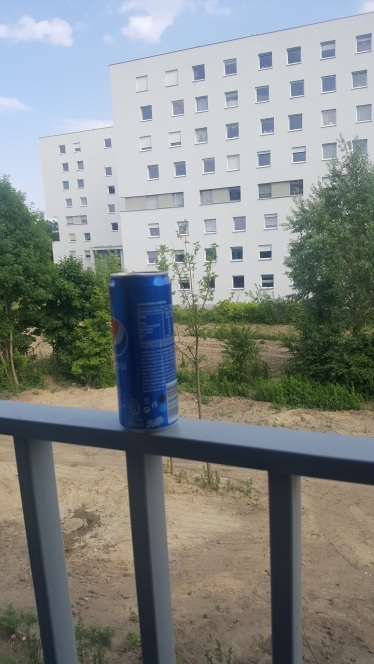pepsi: (97, 262, 190, 443)
